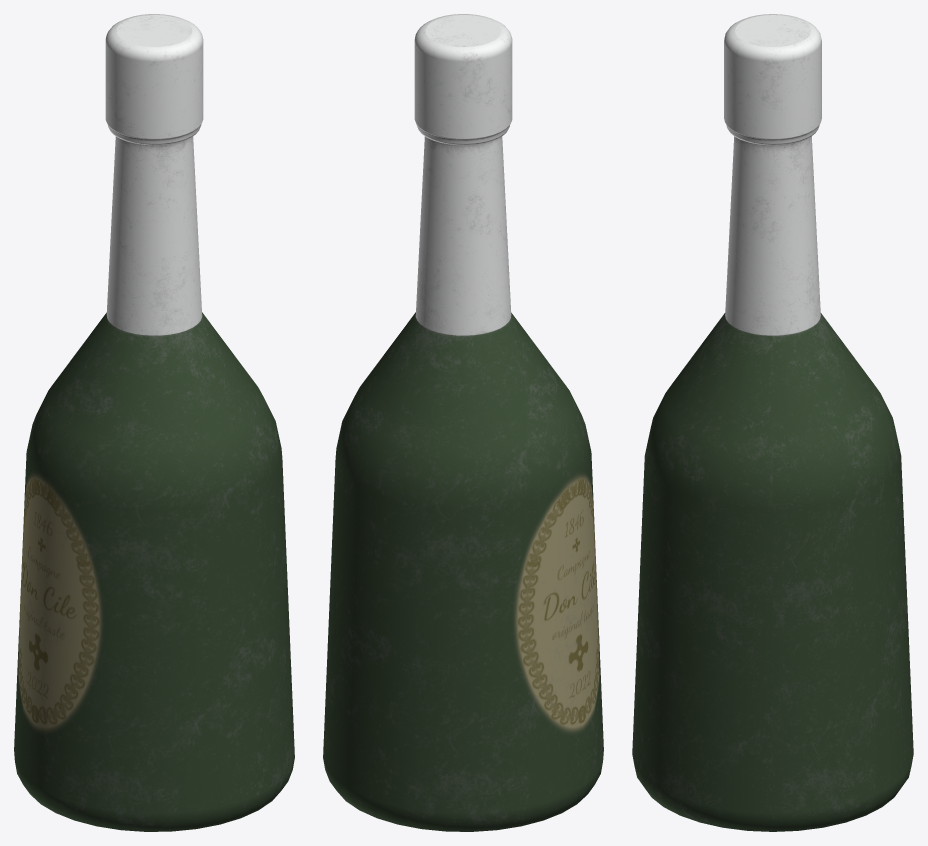
File: SM_SampagneS.fbx
3 views of the same model, side by side, from view 1: azimuth 30°, elevation 25°; view 2: azimuth 150°, elevation 25°; view 3: azimuth 270°, elevation 25° (orthographic).
Parts seen in each view (by area): view 1: SM_SampagneS; view 2: SM_SampagneS; view 3: SM_SampagneS.
Boxes of the visible parts, x1,y1,x2,y2 form: SM_SampagneS: (14, 14, 294, 831); SM_SampagneS: (323, 14, 603, 831); SM_SampagneS: (632, 14, 913, 831).
Size of the model in its own units: 10.97 by 10.97 by 32.23.
Materials: 1 (1 with a texture image).
